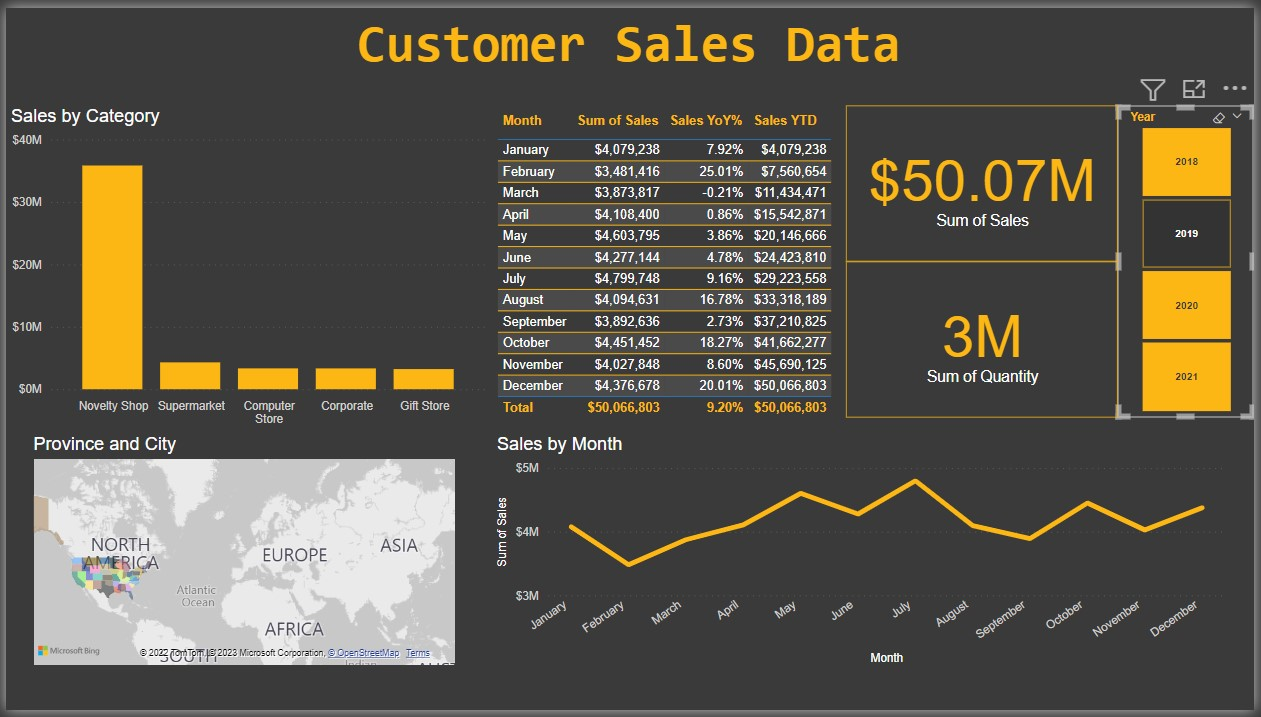

This screenshot's page, from the dashboard's own definition file:
{"tool":"powerbi","page":{"name":"Page 1","canvas":[1280,720],"ordinal":0},"visuals":[{"type":"clusteredColumnChart","title":"Sales by Category","fields":{"Y":["Sum(InvoiceData.Sales)"],"Category":["MasterCustomer.CustomerCategoryName"]},"box":[0,100,498.3,336.7],"z":0},{"type":"textbox","box":[343.3,0,591.7,73.3],"z":1000},{"type":"slicer","fields":{"Values":["InvoiceData.Date.Variation.Date Hierarchy.Year"]},"box":[1140,100,140,320],"z":2000},{"type":"tableEx","fields":{"Values":["InvoiceData.Date.Variation.Date Hierarchy.Month","Sum(InvoiceData.Sales)","InvoiceData.Sales YoY%","InvoiceData.Sales YTD"]},"box":[498.3,100,363.3,336.7],"z":3000},{"type":"lineChart","title":"Sales by Month","fields":{"Y":["Sum(InvoiceData.Sales)"],"Category":["InvoiceData.Date.Variation.Date Hierarchy.Month"]},"box":[498.3,436.7,756.7,241.7],"z":4000},{"type":"card","fields":{"Values":["Sum(InvoiceData.Sales)"]},"box":[861.7,100,278.3,160],"z":5000},{"type":"card","fields":{"Values":["Sum(InvoiceData.Quantity)"]},"box":[861.7,260,278.3,160],"z":6000},{"type":"filledMap","fields":{"Category":["MasterCustomer.Province"],"Series":["MasterCustomer.City"]},"box":[23.3,436.7,441.7,241.7],"z":6001}]}

Visuals, with their boxes in screenshot pixels (x1, y1, x2, y2), scaled from the page's 1280x720 canvas onto the 1261x717 screenshot:
"Sales by Category" clusteredColumnChart: <box>0,100,491,435</box>
textbox: <box>338,0,921,73</box>
slicer - InvoiceData.Date.Variation.Date Hierarchy.Year: <box>1123,100,1260,418</box>
tableEx - InvoiceData.Date.Variation.Date Hierarchy.Month x Sum(InvoiceData.Sales): <box>491,100,849,435</box>
"Sales by Month" lineChart: <box>491,435,1236,676</box>
card - Sum(InvoiceData.Sales): <box>849,100,1123,259</box>
card - Sum(InvoiceData.Quantity): <box>849,259,1123,418</box>
filledMap - MasterCustomer.Province x MasterCustomer.City: <box>23,435,458,676</box>
